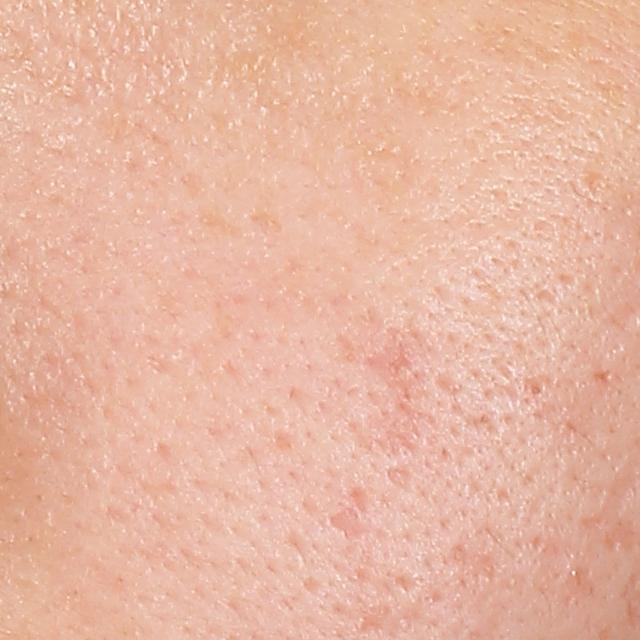atrophic_scar: (327, 506, 375, 543), (384, 464, 419, 496)
